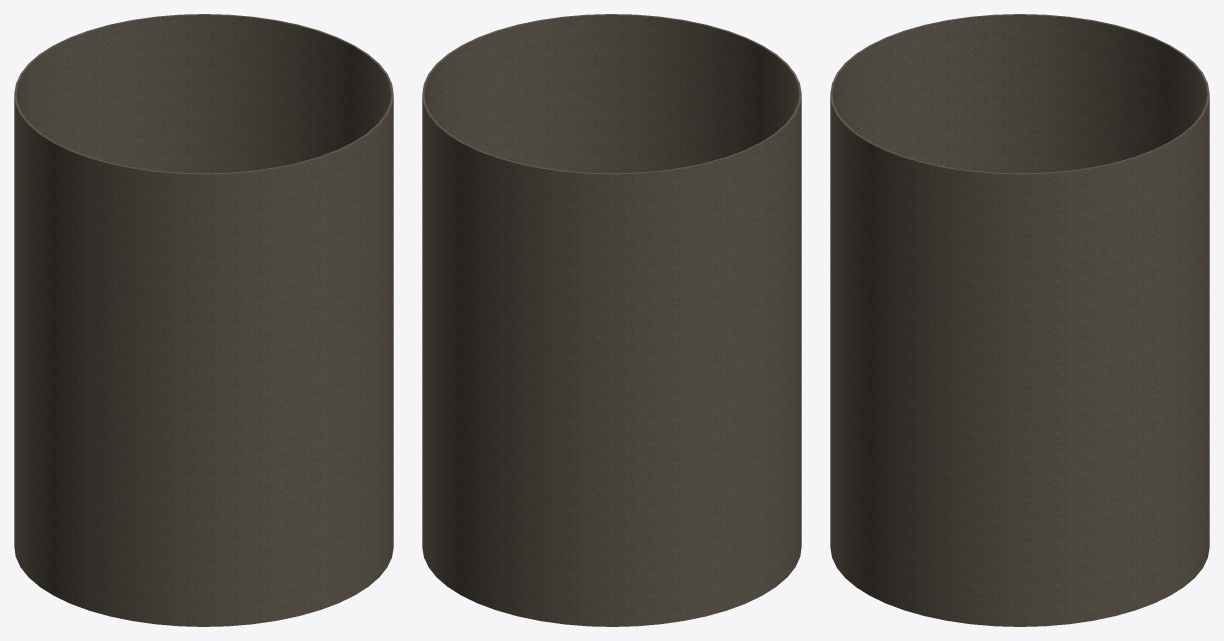
Rendered from innerParchment.glb.
The picture shows the model from 3 angles, left to right: view 1: azimuth 30°, elevation 25°; view 2: azimuth 150°, elevation 25°; view 3: azimuth 270°, elevation 25°; orthographic projection.
Parts seen in each view (by area): view 1: Spiral.016; view 2: Spiral.016; view 3: Spiral.016.
Boxes of the visible parts, x1,y1,x2,y2 form: Spiral.016: [14, 14, 393, 626]; Spiral.016: [422, 14, 801, 626]; Spiral.016: [830, 14, 1209, 626].
Size of the model in its own units: 0.9657 by 1.27 by 0.9657.
1 material, 1 textured.
